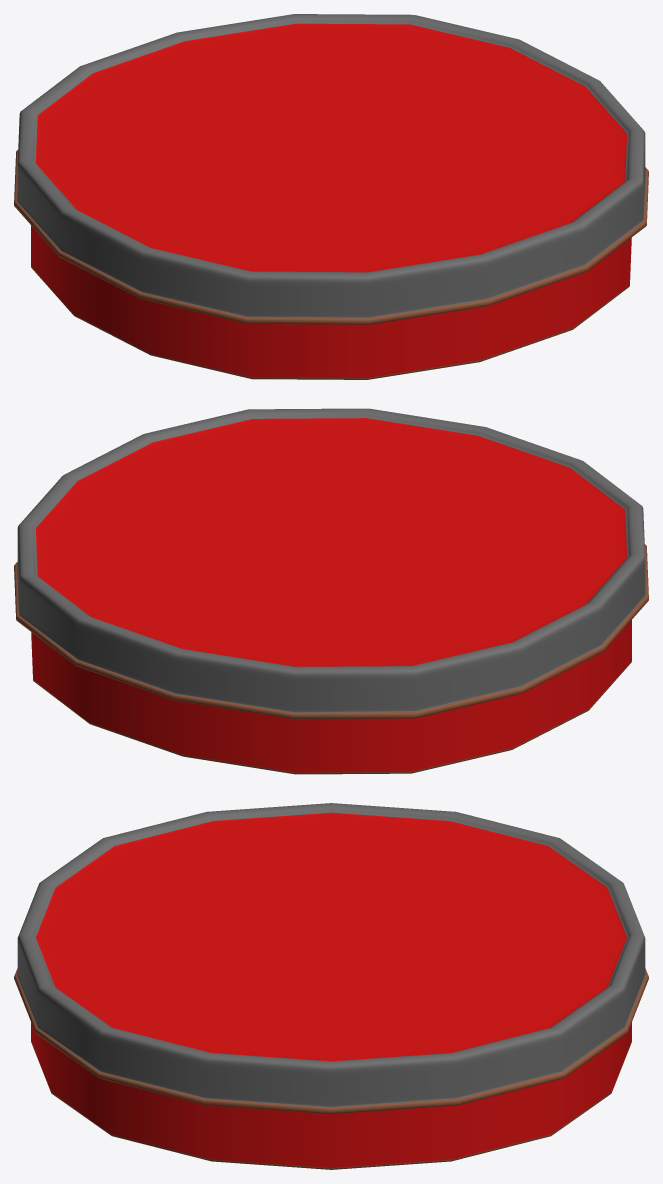
File: CookieTinClosed.fbx
3 renders of one model, top to bottom at view 1: azimuth 30°, elevation 25°; view 2: azimuth 150°, elevation 25°; view 3: azimuth 270°, elevation 25°, orthographic.
Parts seen in each view (by area): view 1: pCube356; view 2: pCube356; view 3: pCube356.
Boxes of the visible parts, box(x1,y1,x2,y2) form: pCube356: box(14, 14, 648, 379); pCube356: box(14, 408, 648, 774); pCube356: box(14, 803, 648, 1169).
Size of the model in its own units: 53.08 by 10.2 by 53.08.
